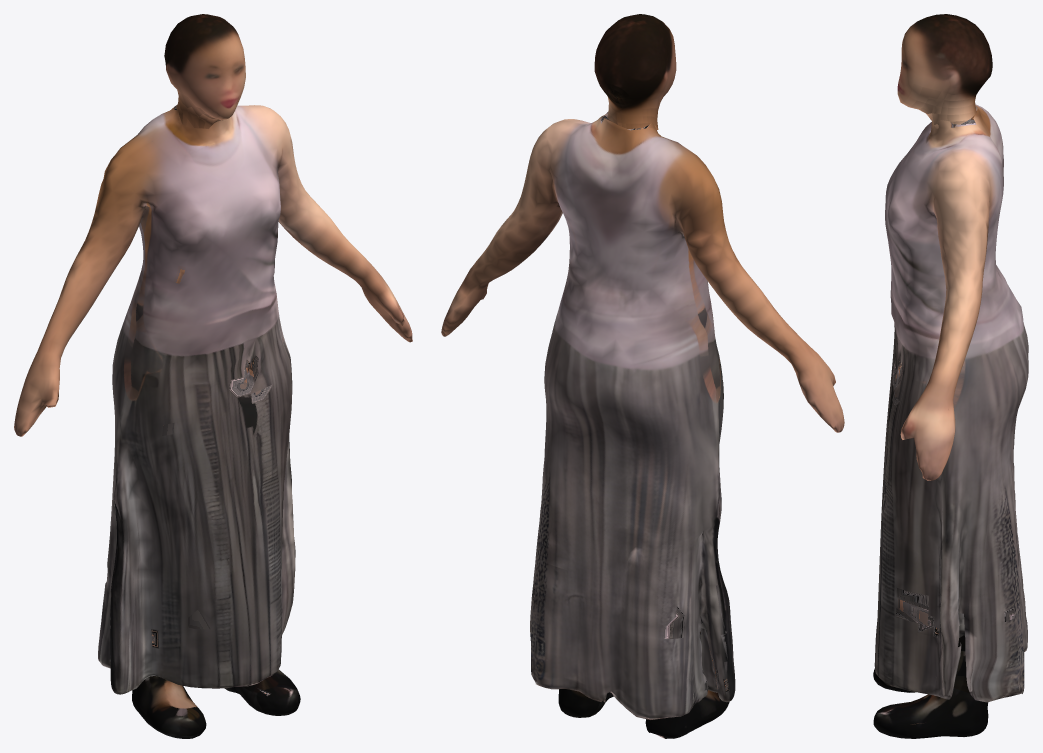
3 renders of one model, left to right at view 1: azimuth 30°, elevation 25°; view 2: azimuth 150°, elevation 25°; view 3: azimuth 270°, elevation 25°, orthographic.
Visible parts, largest first — view 1: base.001; view 2: base.001; view 3: base.001.
Part boxes in pixels (<box>): base.001: <box>14,14,412,738</box>; base.001: <box>441,14,844,738</box>; base.001: <box>873,14,1028,738</box>.
Size of the model in its own units: 1.14 by 1.9 by 0.3872.
1 material, 1 textured.
